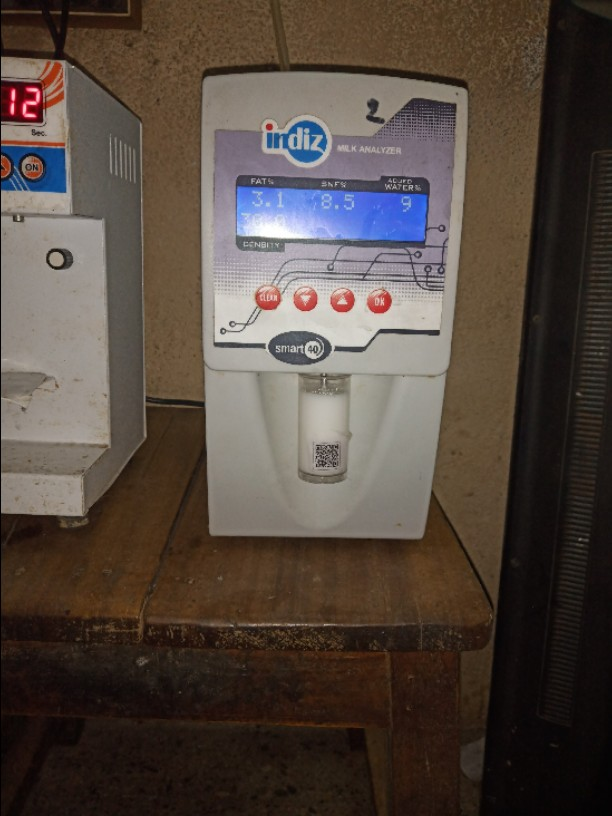lcd: (232, 183, 430, 250)
qr: (311, 442, 343, 471)
